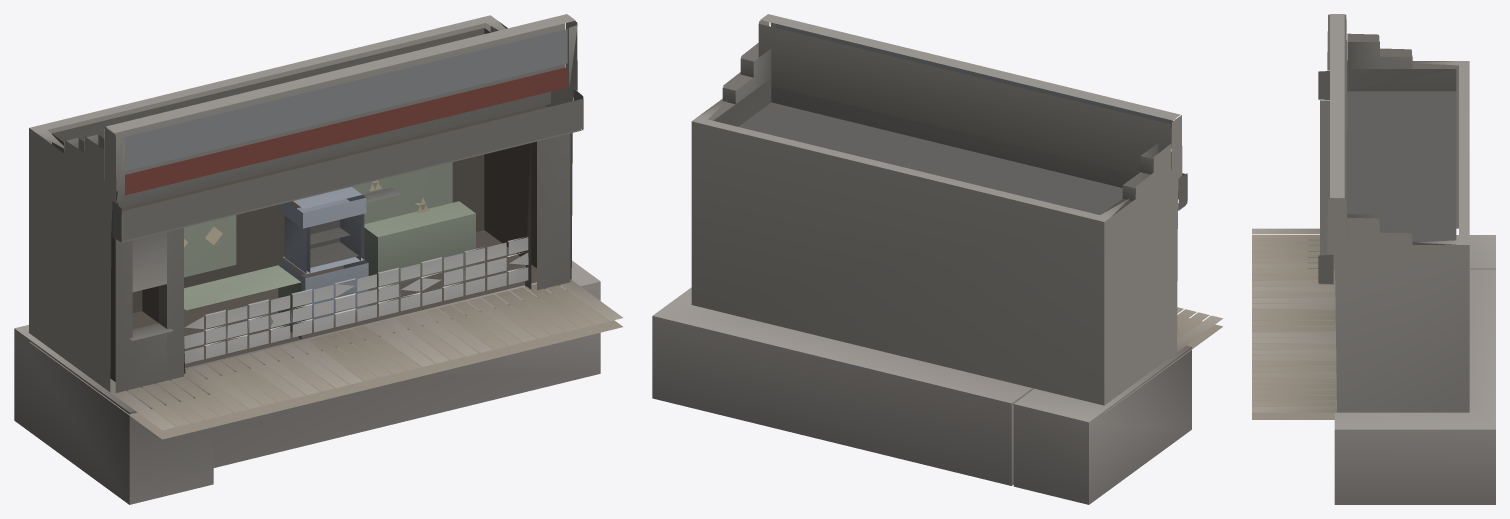
The model's file is arcade.lod.glb.
3 renders of one model, left to right at view 1: azimuth 30°, elevation 25°; view 2: azimuth 150°, elevation 25°; view 3: azimuth 270°, elevation 25°, orthographic. The views are drawn at different scales.
Parts seen in each view (by area): view 1: arcade; view 2: arcade; view 3: arcade.
Part boxes in pixels (bbox=[...]): arcade: bbox=[14, 14, 622, 504]; arcade: bbox=[652, 14, 1222, 504]; arcade: bbox=[1252, 14, 1495, 504].
Bounding box in the file's own units: 8.48 × 6 × 4.48.
